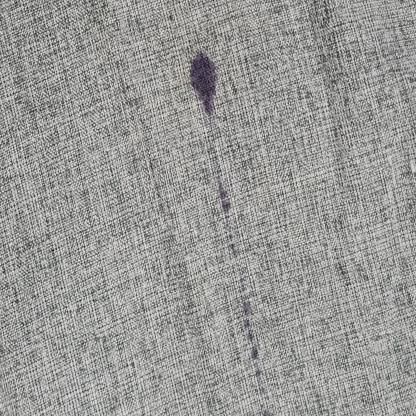spot: (240, 280, 270, 400), (214, 162, 247, 262), (188, 43, 222, 125)
